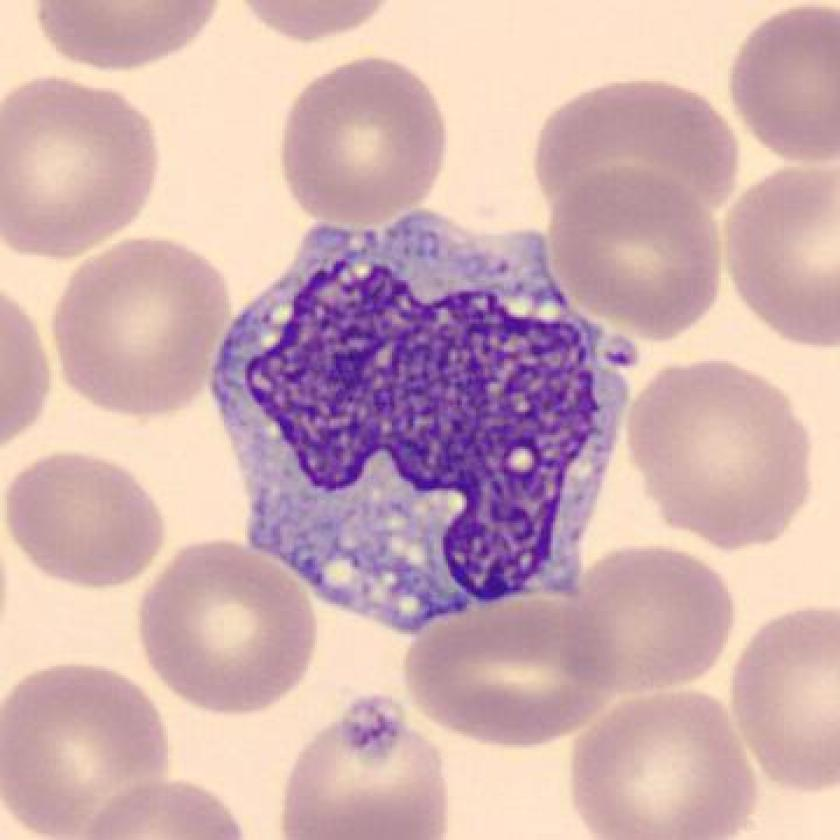monocyte: (195, 191, 654, 635)
